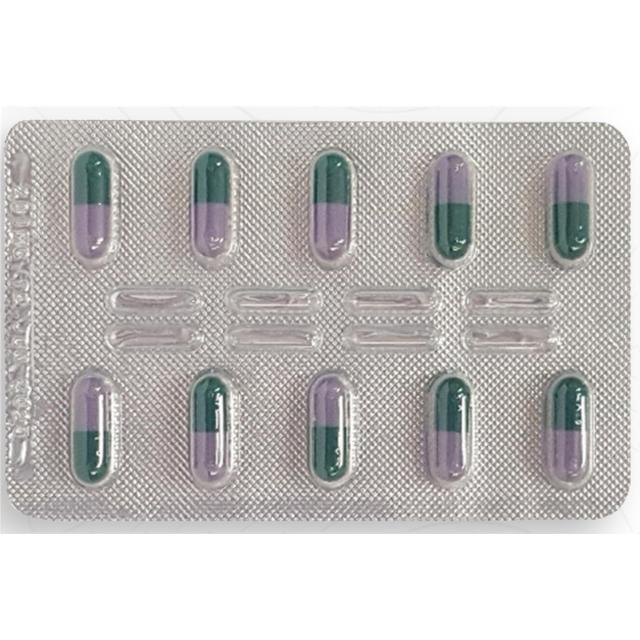blister: (1, 116, 636, 521)
